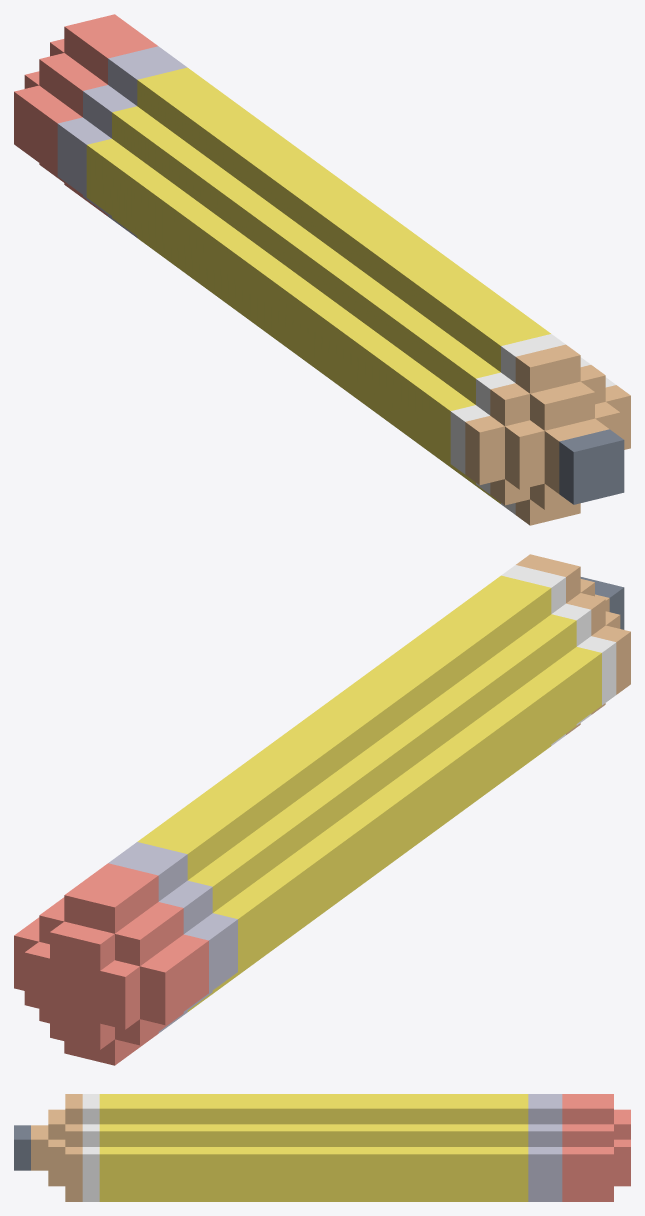
File: pencil.obj
3 renders of one model, top to bottom at view 1: azimuth 30°, elevation 25°; view 2: azimuth 150°, elevation 25°; view 3: azimuth 270°, elevation 25°, orthographic. The views are drawn at different scales.
Bounding box in the file's own units: 0.6 × 0.6 × 3.6.
Materials: 1 (1 with a texture image).
